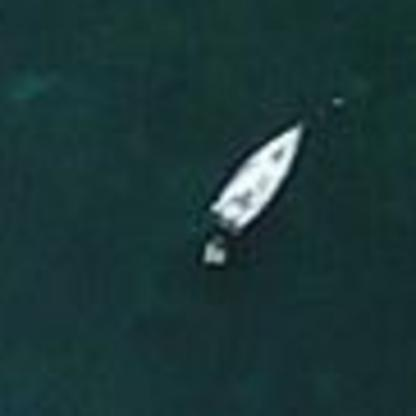ship: (184, 115, 328, 272)
